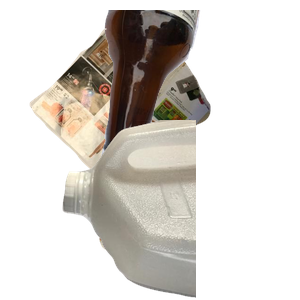glass: (99, 10, 300, 170)
paper: (27, 10, 230, 190)
plastic: (60, 120, 300, 300)
trash: (97, 151, 283, 300)
